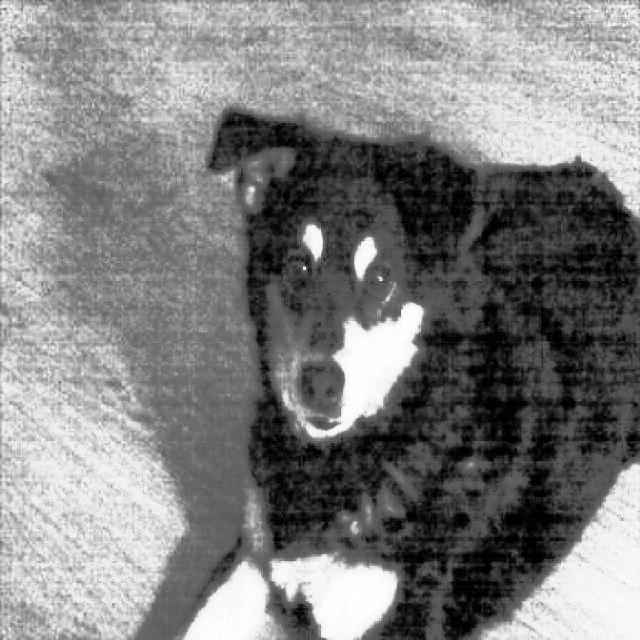Dog: (187, 87, 640, 640)
